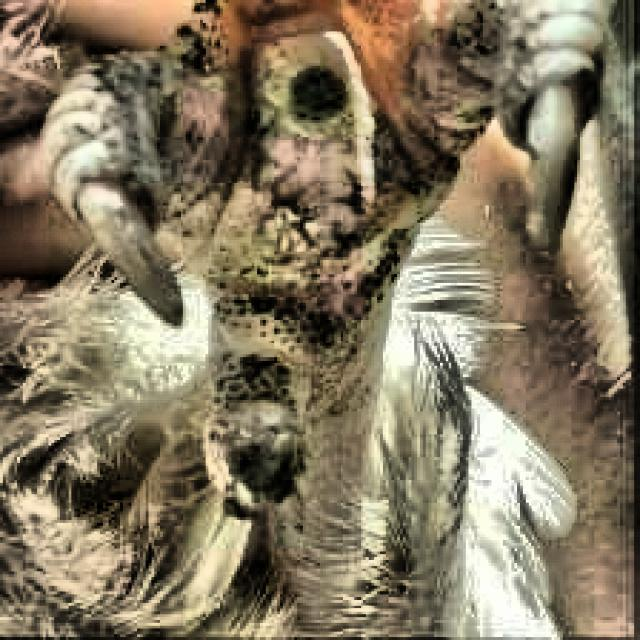Bumble foot: (223, 13, 422, 192)
